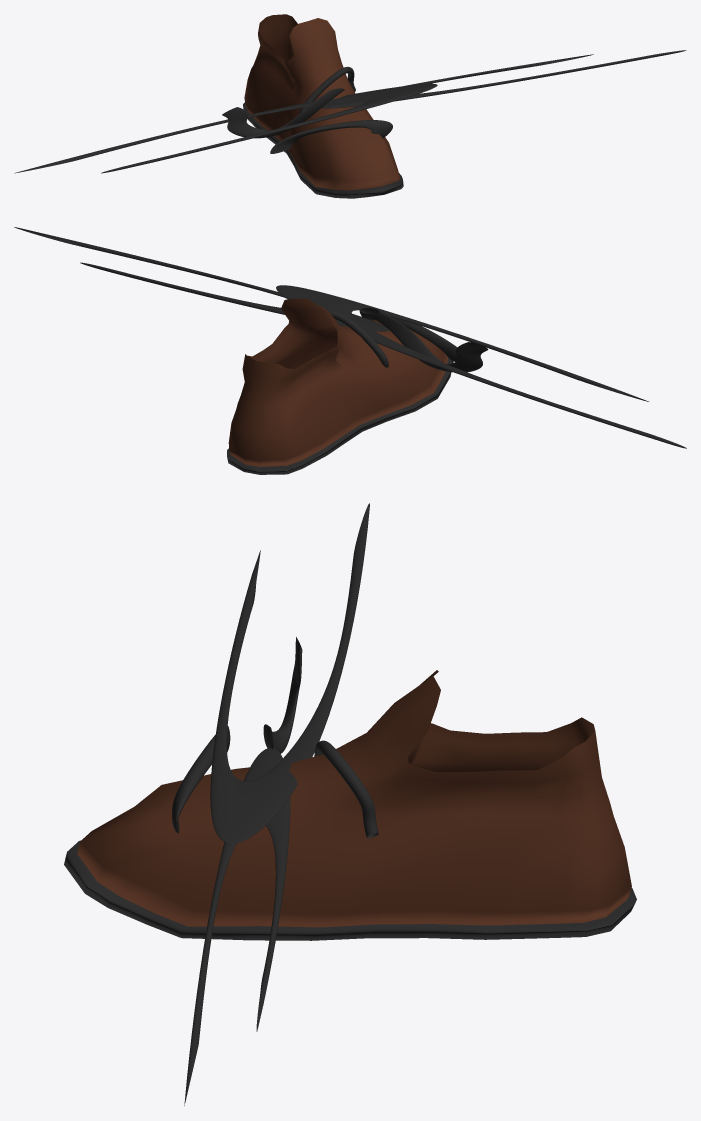
File: OldShoe.fbx
3 renders of one model, top to bottom at view 1: azimuth 30°, elevation 25°; view 2: azimuth 150°, elevation 25°; view 3: azimuth 270°, elevation 25°, orthographic. The views are drawn at different scales.
Parts seen in each view (by area): view 1: Cube.010, NurbsCurve.005, NurbsCurve.003, NurbsCurve.002, NurbsCurve.004, NurbsCurve.001; view 2: Cube.010, NurbsCurve.005, NurbsCurve.003, NurbsCurve.002, NurbsCurve.004, NurbsCurve.001; view 3: Cube.010, NurbsCurve.005, NurbsCurve.003, NurbsCurve.001, NurbsCurve.002, NurbsCurve.004.
Boxes of the visible parts, x1,y1,x2,y2 form: Cube.010: (243,14,403,198); NurbsCurve.005: (14,83,437,173); NurbsCurve.003: (321,50,686,108); NurbsCurve.002: (222,88,344,138); NurbsCurve.004: (270,120,392,153); NurbsCurve.001: (299,66,355,113); Cube.010: (227,298,453,474); NurbsCurve.005: (276,285,686,448); NurbsCurve.003: (14,227,389,331); NurbsCurve.002: (360,308,488,372); NurbsCurve.004: (359,311,458,361); NurbsCurve.001: (327,310,388,367); Cube.010: (64,670,636,940); NurbsCurve.005: (210,503,369,843); NurbsCurve.003: (184,748,290,1105); NurbsCurve.001: (314,740,378,838); NurbsCurve.002: (263,637,302,753); NurbsCurve.004: (172,725,230,833).
Size of the model in its own units: 767 by 137 by 304.
